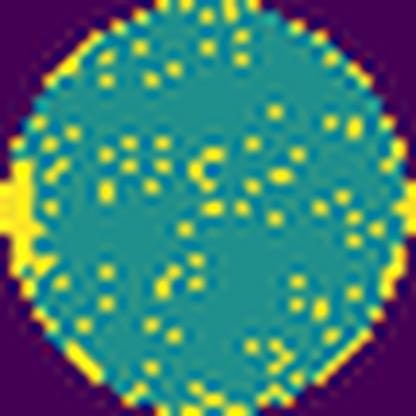Edge-Loc: (0, 155, 59, 302), (390, 174, 416, 244)
